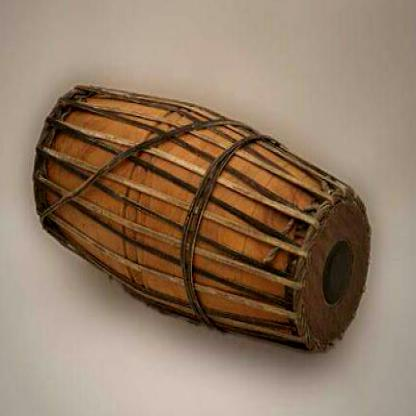Mridangam: (27, 64, 377, 363)
